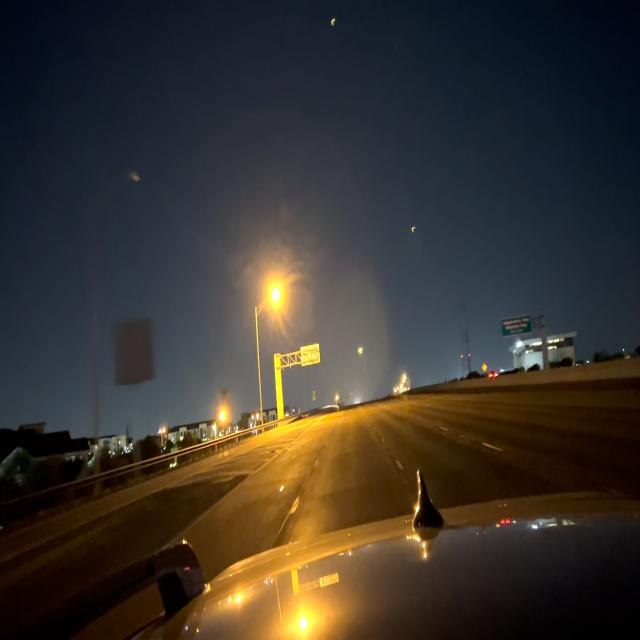back-of-sign: (112, 321, 150, 383)
